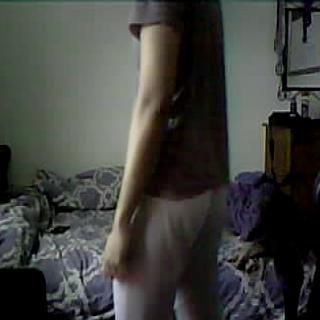White Sweatpants: (105, 183, 233, 320)
